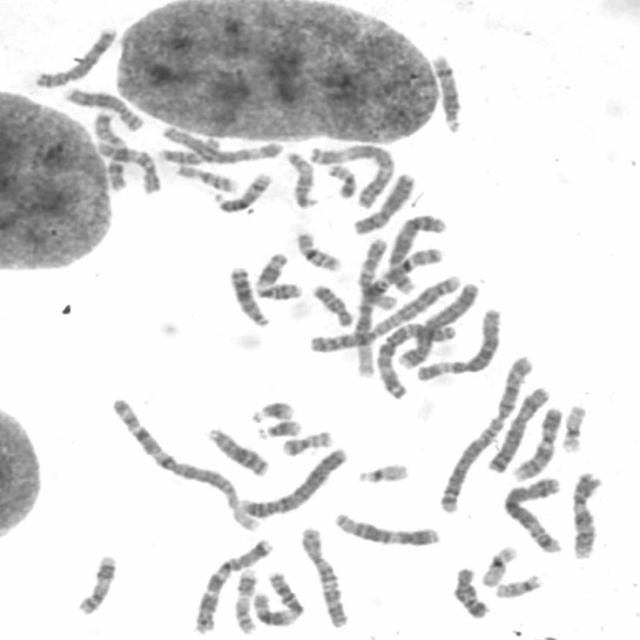A1: (103, 391, 264, 535), (354, 247, 439, 383)
A2: (433, 350, 537, 513), (303, 270, 469, 355)
A3: (370, 316, 459, 400), (304, 137, 397, 207)
B4: (234, 440, 350, 520), (393, 275, 482, 371)
B5: (383, 208, 450, 296), (496, 472, 564, 554)
C10: (293, 520, 351, 630), (91, 136, 162, 195)
C11: (247, 566, 306, 628), (250, 246, 303, 302)
C12: (328, 507, 442, 548), (352, 233, 400, 311)
C6: (409, 300, 505, 383), (156, 121, 285, 165)
C7: (188, 532, 276, 635), (84, 106, 142, 190)
C8: (29, 21, 119, 89), (58, 80, 146, 133)
C9: (507, 400, 565, 482), (565, 466, 604, 560)
D13: (201, 421, 271, 478), (224, 259, 272, 327)
D14: (426, 48, 465, 134), (208, 166, 274, 214)
D15: (282, 145, 321, 210), (151, 132, 223, 164)
E16: (290, 225, 344, 272), (170, 158, 240, 193)
E17: (70, 548, 118, 617), (228, 562, 260, 635)
E18: (448, 560, 491, 620), (306, 278, 356, 327)
F19: (474, 540, 520, 588), (556, 398, 590, 454)
F20: (275, 424, 335, 457), (321, 159, 360, 200)
G21: (243, 394, 297, 424), (250, 413, 303, 441)
G22: (351, 456, 412, 485), (489, 568, 544, 600)
X: (481, 380, 551, 475), (347, 166, 417, 236)
